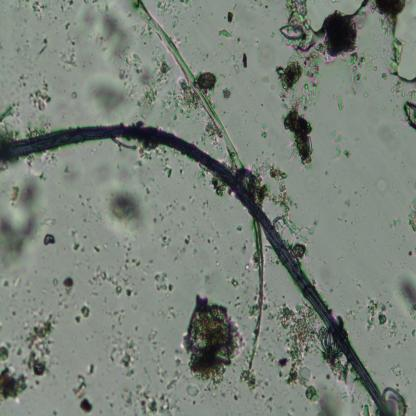Anthropogenic: (0, 120, 387, 414)
Background material: (134, 0, 244, 166), (0, 167, 47, 282), (188, 294, 243, 388), (273, 302, 320, 402), (238, 220, 265, 392), (269, 156, 307, 240), (97, 8, 144, 75), (90, 240, 141, 300), (274, 48, 320, 108), (21, 312, 58, 378), (280, 109, 316, 173), (102, 324, 142, 378), (114, 382, 181, 414), (86, 73, 134, 115), (107, 186, 146, 233), (161, 76, 199, 122), (0, 343, 27, 405), (281, 1, 312, 54), (139, 54, 170, 105), (389, 271, 416, 328), (325, 11, 359, 56), (67, 180, 99, 226), (317, 333, 346, 381), (339, 369, 370, 407), (11, 43, 35, 92), (147, 329, 168, 381), (235, 171, 268, 202), (60, 20, 80, 68), (382, 36, 404, 77), (146, 194, 176, 224), (347, 50, 366, 96), (58, 157, 82, 191), (328, 126, 352, 160), (363, 298, 387, 331), (164, 350, 183, 391), (27, 81, 51, 113), (249, 384, 276, 412), (0, 103, 20, 140), (382, 387, 409, 414), (102, 302, 127, 327), (136, 140, 161, 164), (374, 0, 407, 18), (154, 0, 192, 15), (391, 80, 416, 101), (153, 271, 175, 294), (196, 229, 219, 250), (196, 69, 216, 90), (203, 119, 220, 143), (153, 306, 176, 323), (71, 375, 86, 401), (30, 0, 48, 21), (404, 98, 416, 128), (74, 304, 91, 324), (406, 201, 416, 232), (384, 318, 398, 340), (212, 178, 227, 198), (161, 155, 173, 180), (291, 243, 307, 261), (184, 383, 200, 401), (228, 53, 241, 74), (340, 195, 356, 212), (330, 93, 346, 110), (62, 276, 74, 296), (160, 230, 172, 249), (388, 362, 402, 378), (37, 36, 48, 56), (70, 229, 80, 251), (219, 86, 233, 101), (225, 389, 242, 401), (43, 233, 57, 247), (81, 397, 94, 412), (387, 216, 396, 235), (376, 177, 388, 191), (230, 272, 240, 288), (86, 361, 96, 376), (260, 119, 267, 140), (242, 50, 249, 70), (70, 87, 80, 101), (218, 29, 233, 38), (361, 404, 371, 416), (183, 235, 191, 246), (227, 12, 234, 24), (53, 284, 58, 287)
